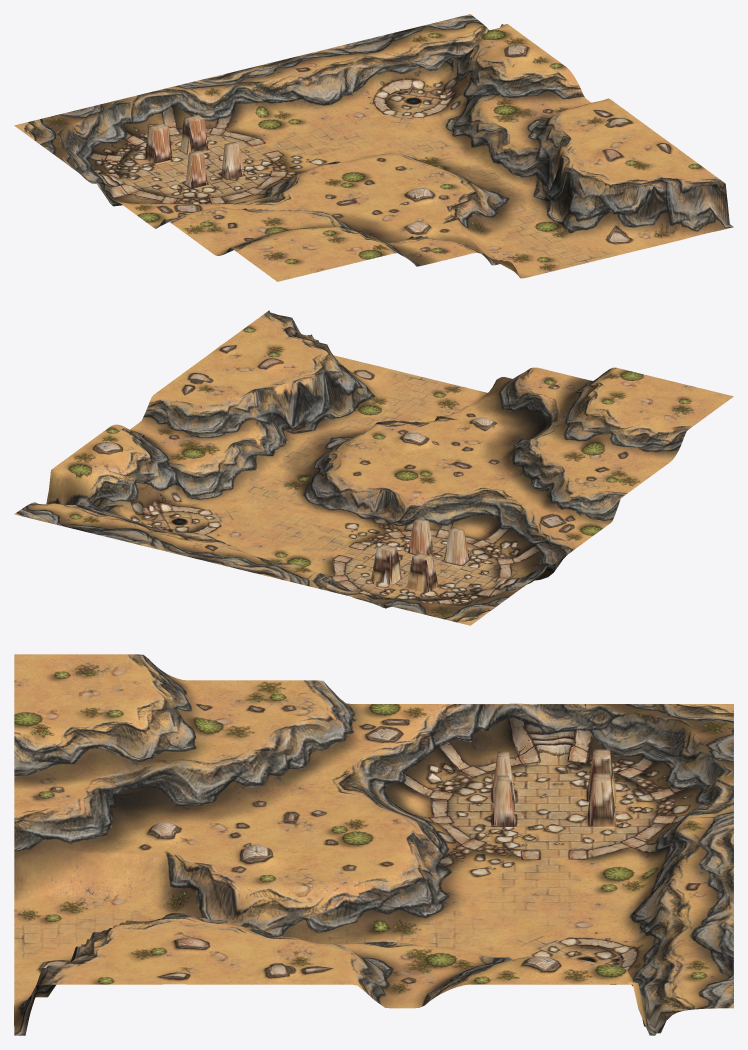
The model's file is Map-RuinedShrineDesertCanyonCompressed.glb.
The picture shows the model from 3 angles, top to bottom: view 1: azimuth 30°, elevation 25°; view 2: azimuth 150°, elevation 25°; view 3: azimuth 270°, elevation 25°; orthographic projection. The views are drawn at different scales.
Parts seen in each view (by area): view 1: Plane; view 2: Plane; view 3: Plane.
Boxes of the visible parts, bbox=[...] form: Plane: bbox=[14, 14, 733, 281]; Plane: bbox=[14, 310, 733, 625]; Plane: bbox=[14, 654, 733, 1035].
Size of the model in its own units: 19.94 by 2.36 by 19.94.
Materials: 1 (1 with a texture image).
